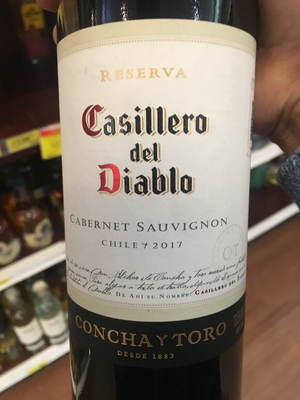casillero del diablo cabernet sauvignon: (45, 21, 265, 400)
